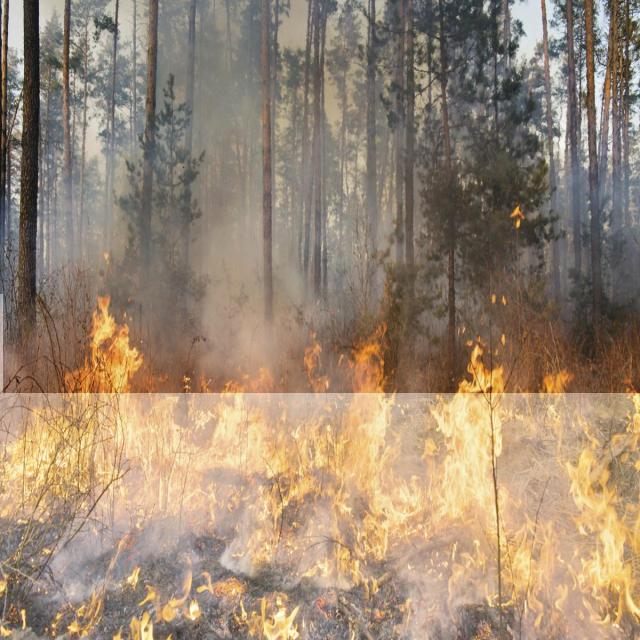Fire: (0, 294, 640, 640)
Smoke: (3, 0, 640, 393)
